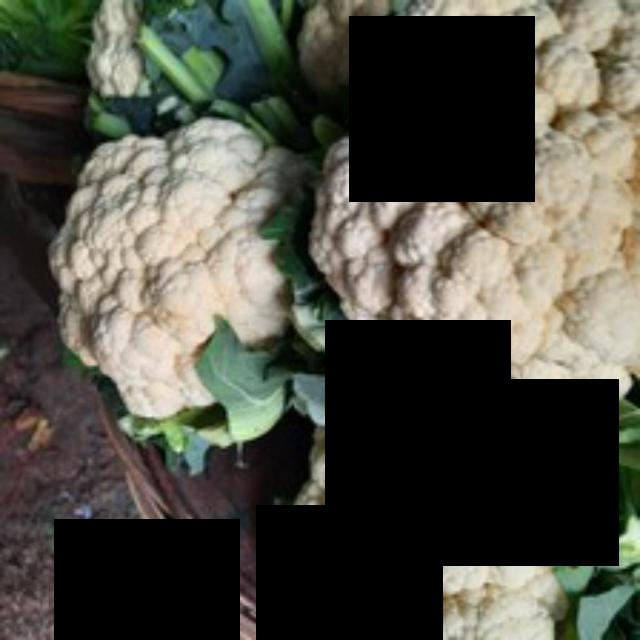cauliflower: (304, 0, 639, 416)
